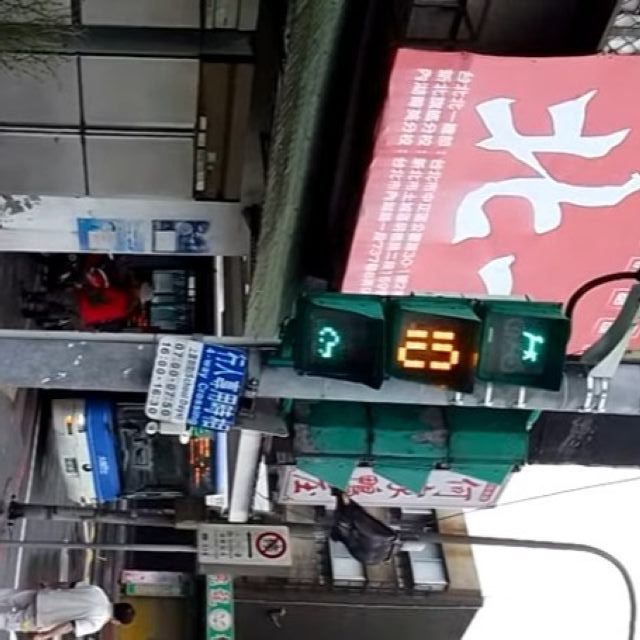green_light: (300, 297, 565, 392)
